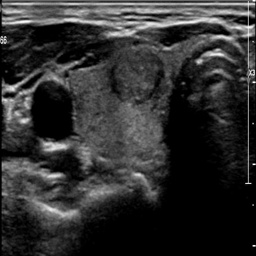mass: (112, 50, 163, 102)
